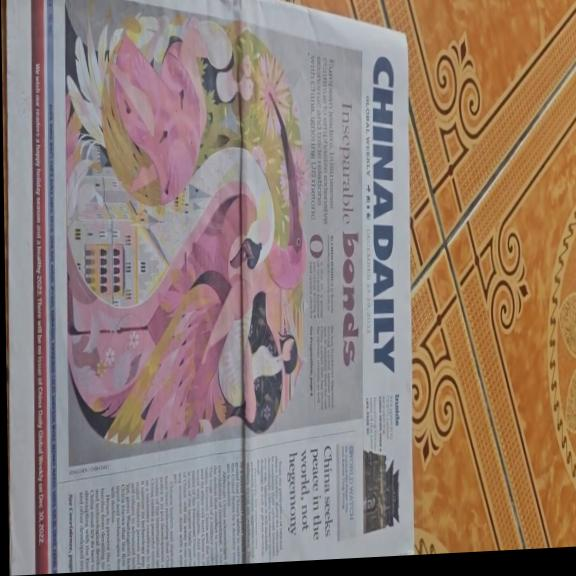Kertas: (10, 0, 418, 566)
